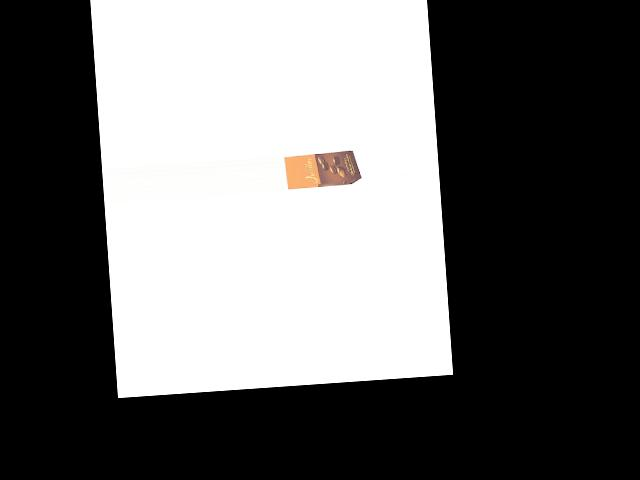chocolate: (284, 145, 361, 191)
